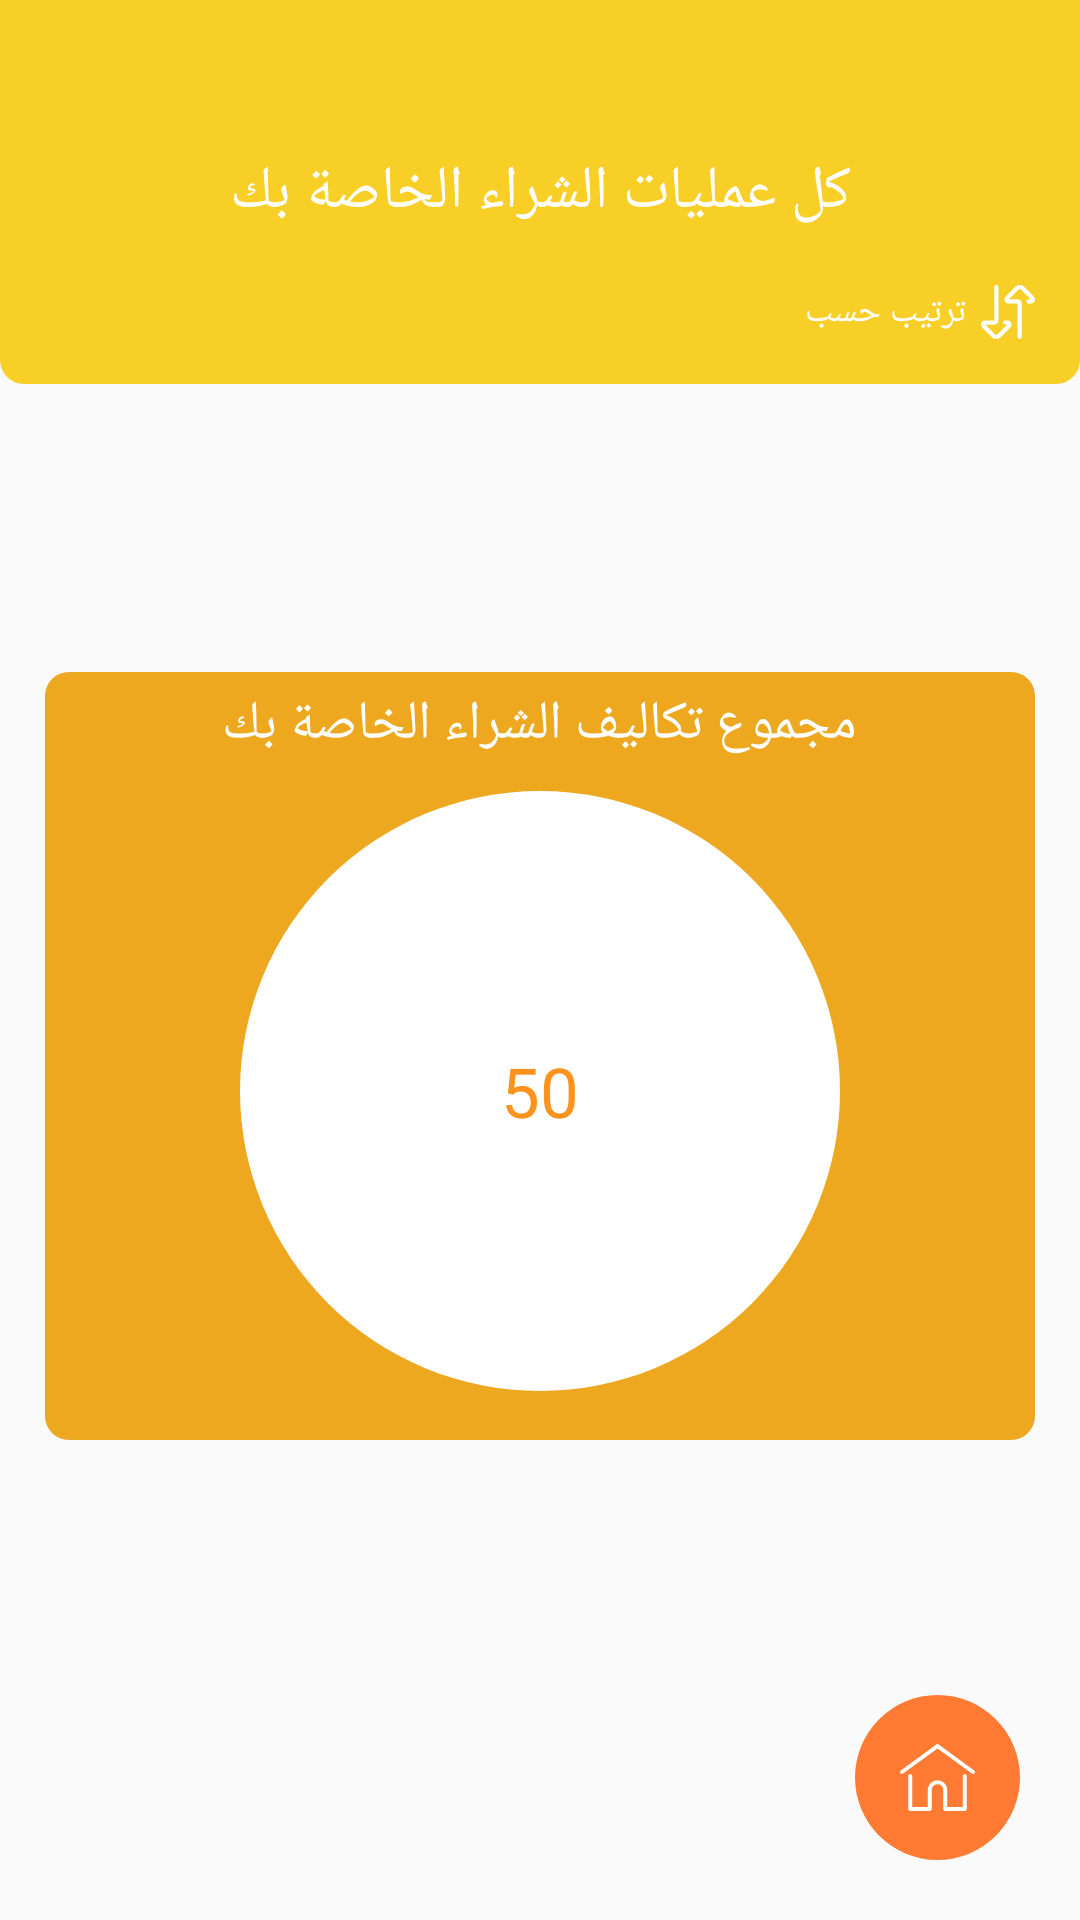

Screen size 1080x1920. Icon name, then its box in pixels as (x1, y1, x2, y2):
home: (855, 1695, 1020, 1860)
